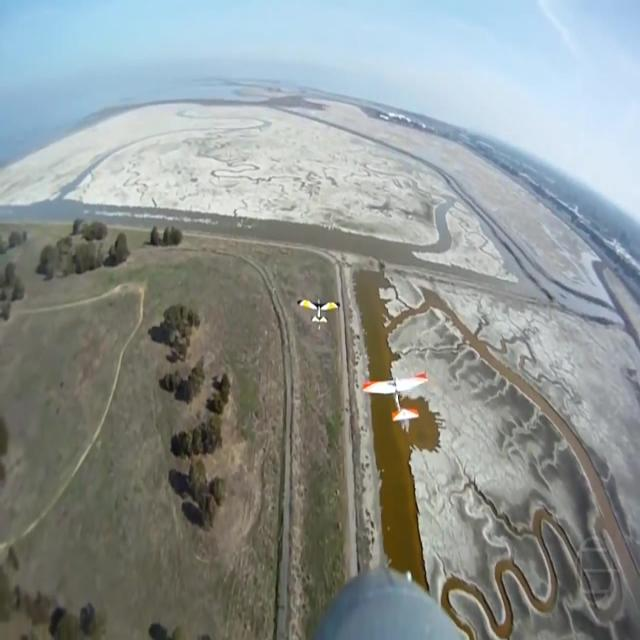iha: (296, 296, 341, 332), (388, 399, 391, 402)
